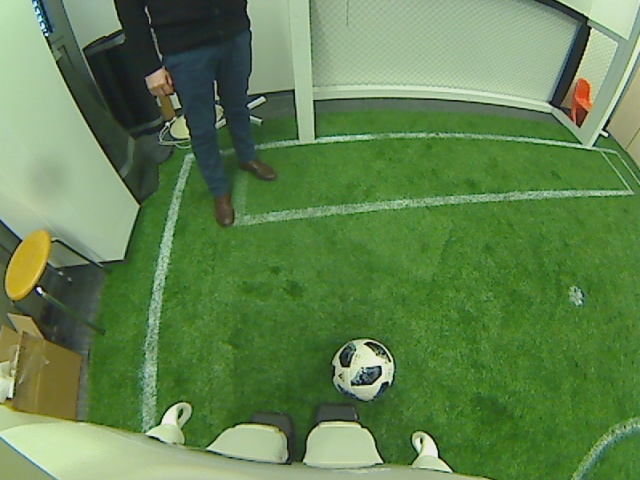ball: (328, 336, 396, 404)
